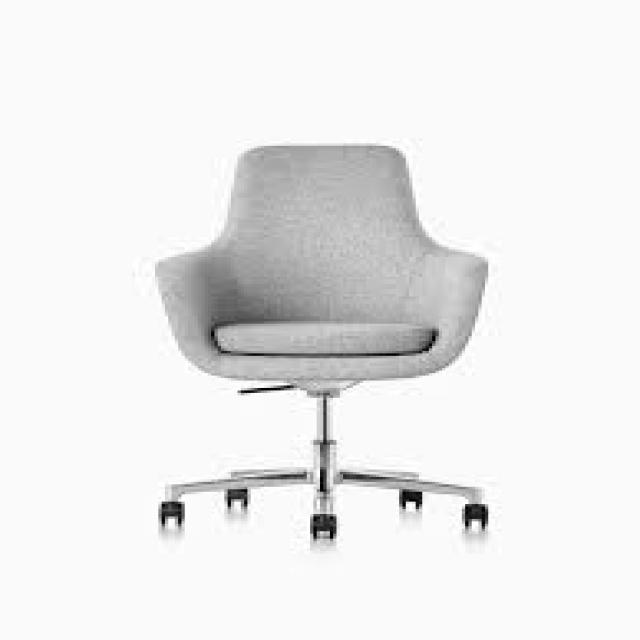chair: (98, 82, 594, 551)
